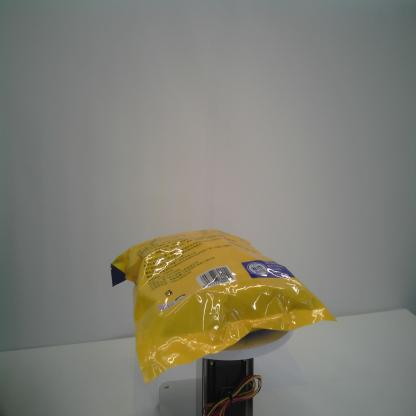Dried Food: (110, 228, 338, 386)
